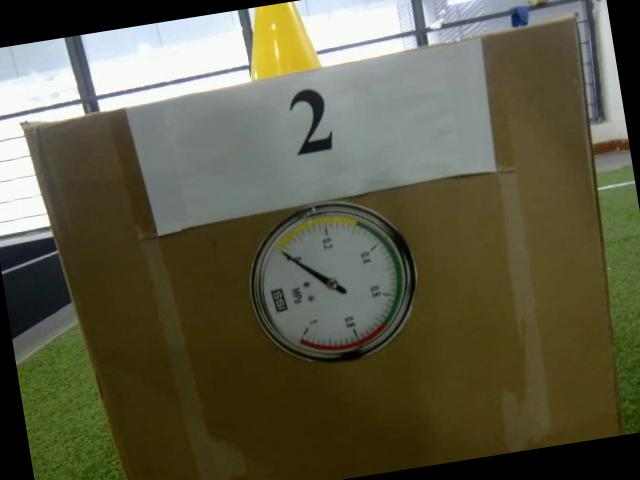2: (285, 86, 337, 156)
Dashboard: (238, 190, 428, 376)
ssi: (270, 288, 288, 313)
yellow_barrel: (238, 0, 320, 81)
